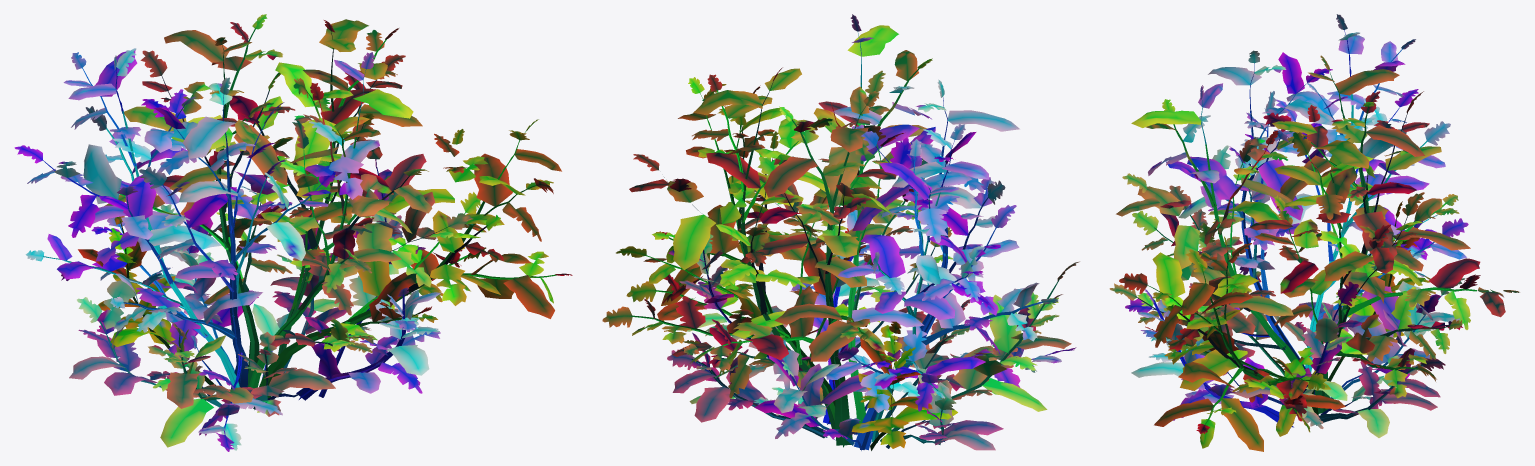
The model's file is Black_Locust_wdvhberja_Mid_wdvhberja_VarC_LOD1.fbx.
3 renders of one model, left to right at view 1: azimuth 30°, elevation 25°; view 2: azimuth 150°, elevation 25°; view 3: azimuth 270°, elevation 25°, orthographic. The views are drawn at different scales.
Parts seen in each view (by area): view 1: _7ql3_VarC_LOD2; view 2: _7ql3_VarC_LOD2; view 3: _7ql3_VarC_LOD2.
Part boxes in pixels (x1,y1,x2,y2): _7ql3_VarC_LOD2: (14,14,572,451); _7ql3_VarC_LOD2: (602,14,1079,450); _7ql3_VarC_LOD2: (1109,14,1519,451).
Size of the model in its own units: 182 by 148 by 155.
